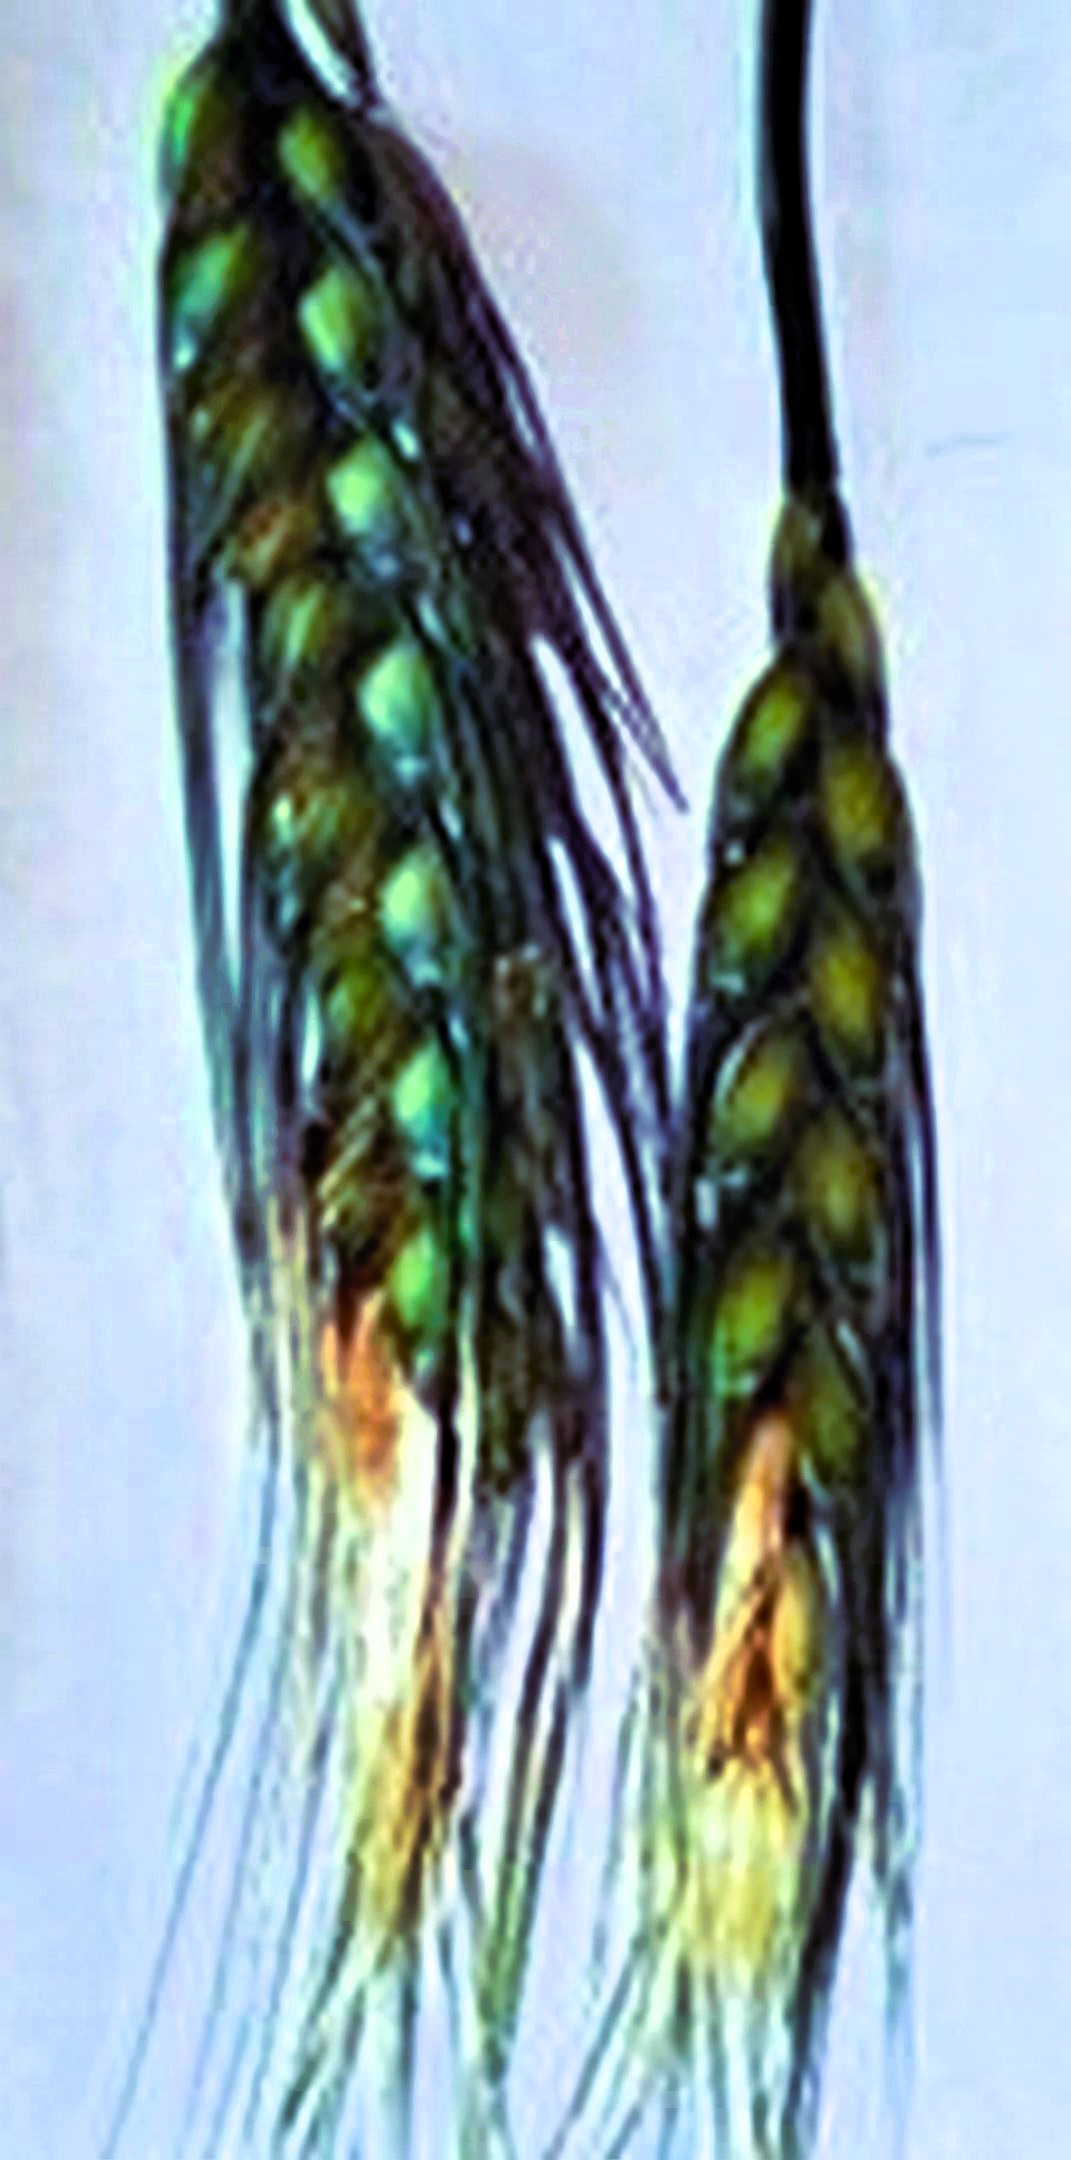Wheat scab: (641, 621, 948, 2091), (232, 893, 583, 2006)
